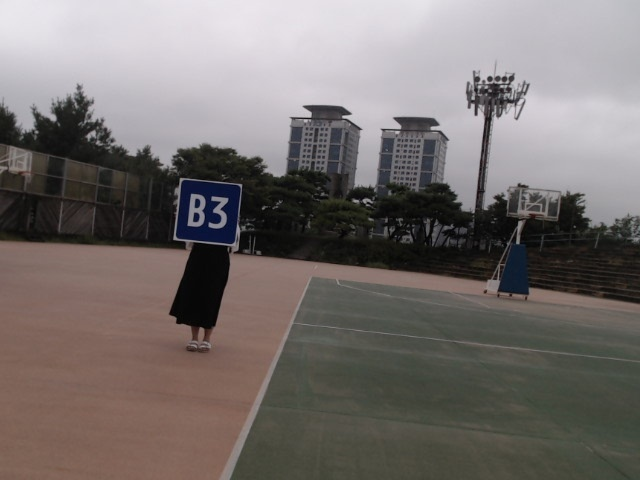delivery_b3: (174, 179, 243, 245)
